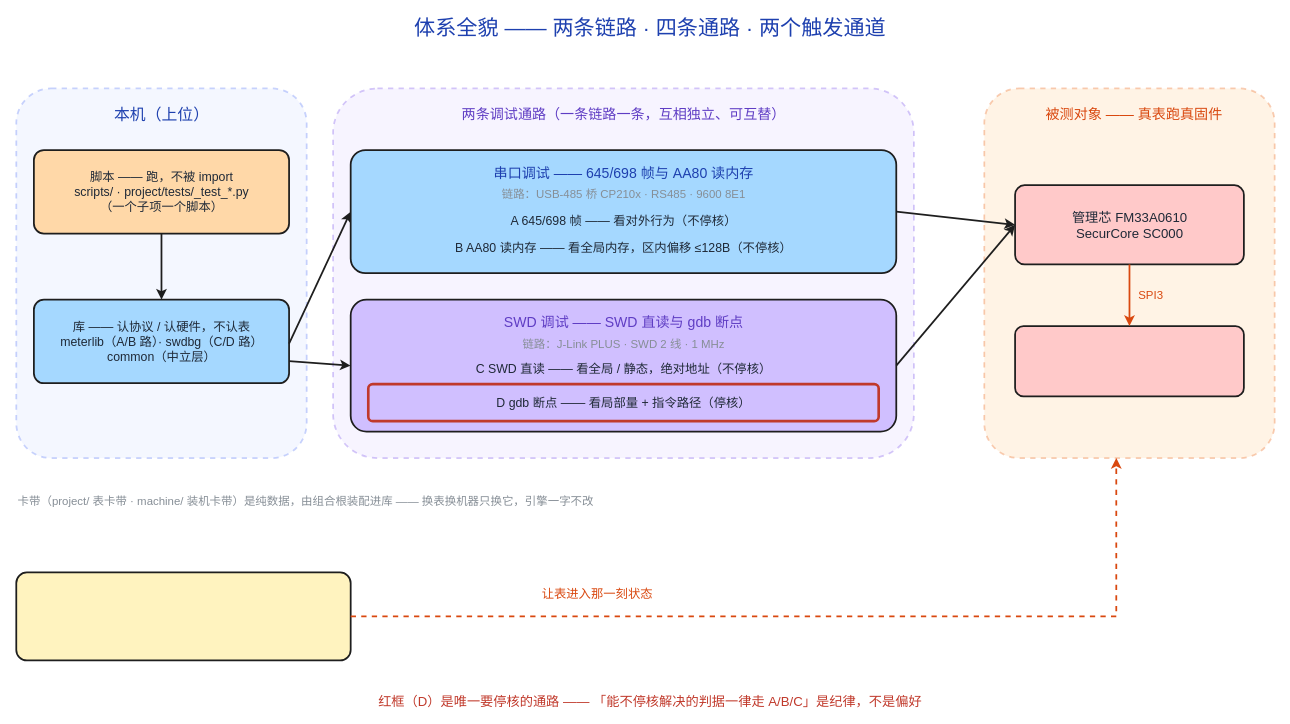
The diagram is 1290 pixels wide and 724 high, and some of its shapes have lost their labels. The shapes that lost their labels are listed below. From the top down, each one's box as (x1, y1, x2, y2) in pixels, then its label:
(1014, 325, 1244, 397): 计量芯 HT7032
(15, 571, 351, 661): 两个触发通道 ① 发帧 —— 默认，能用帧造的一律用帧 ② 注入 —— 帧造不出的状态（越界值 / 恰好差 1s）
